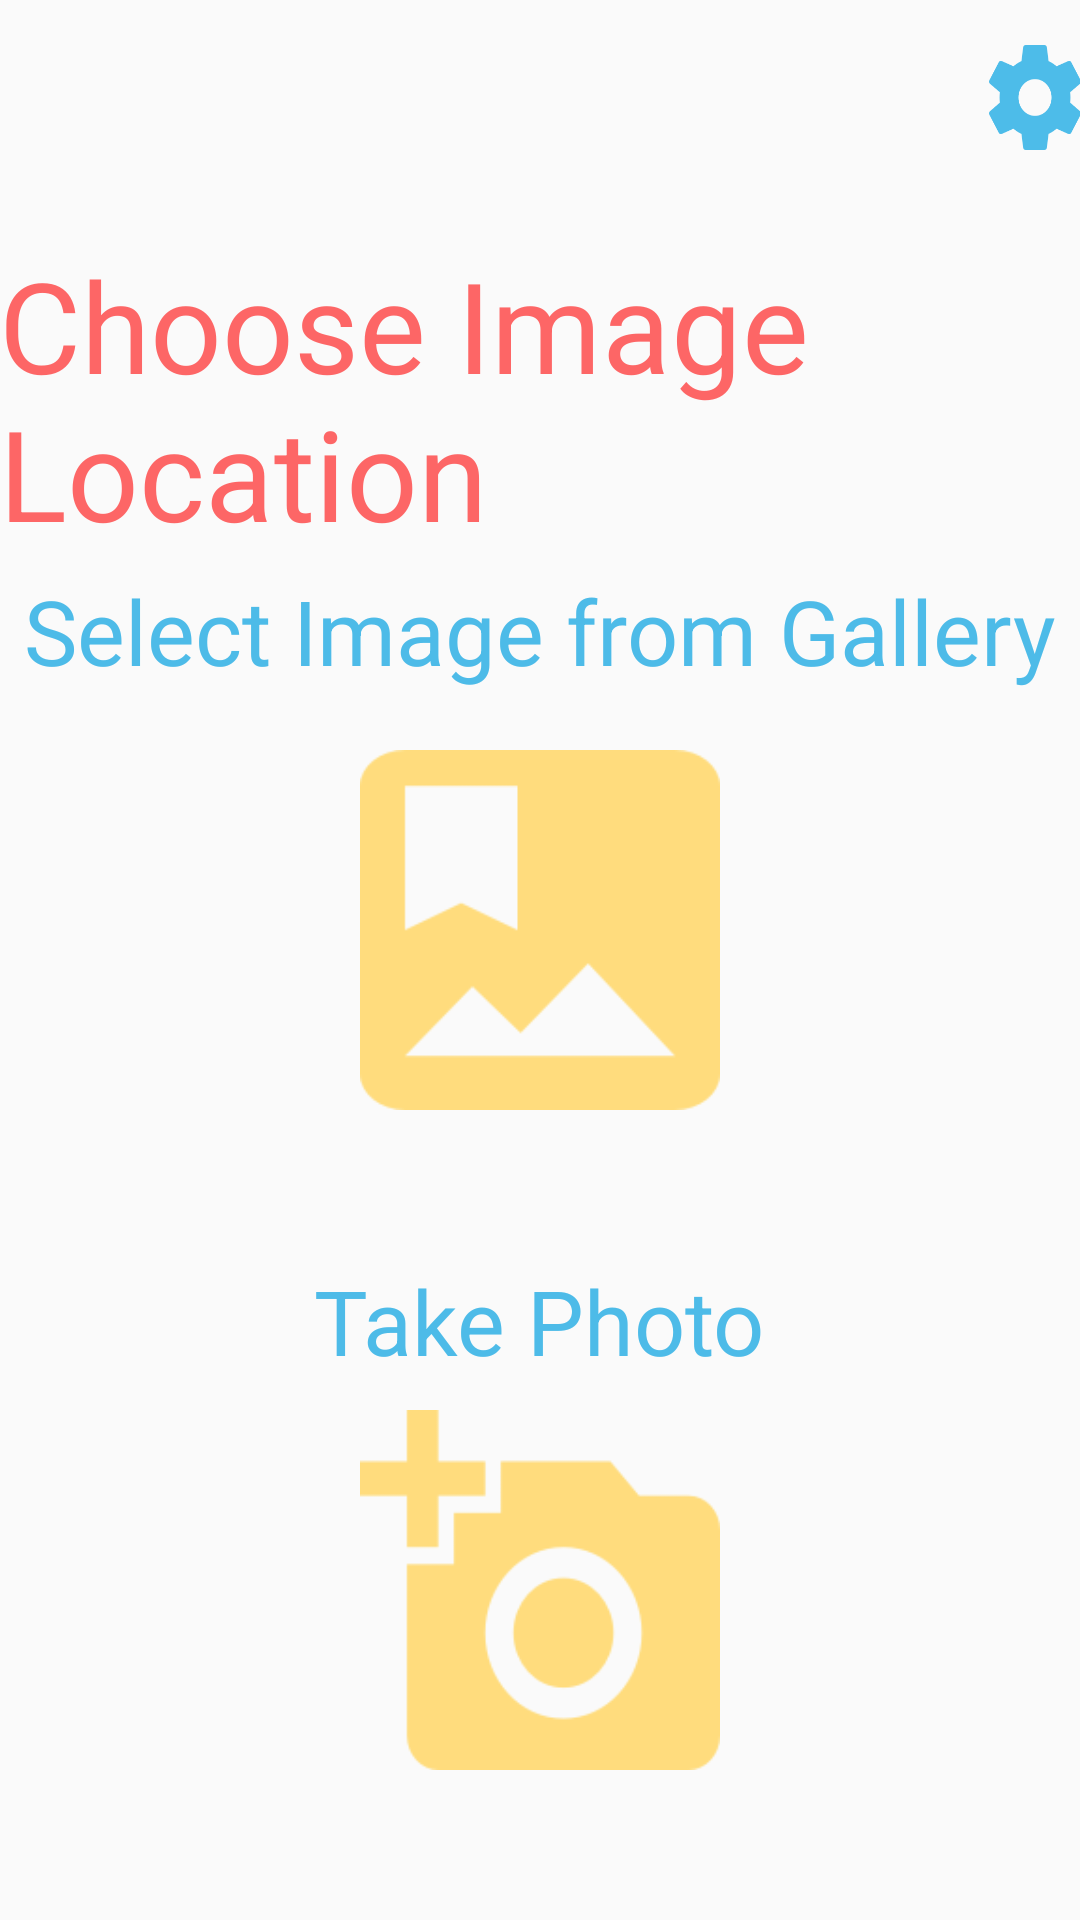

Screen size 1080w x 1920h. Icon name, then its box in pixels as (x1, y1, x2, y2):
settings: (989, 45, 1080, 150)
